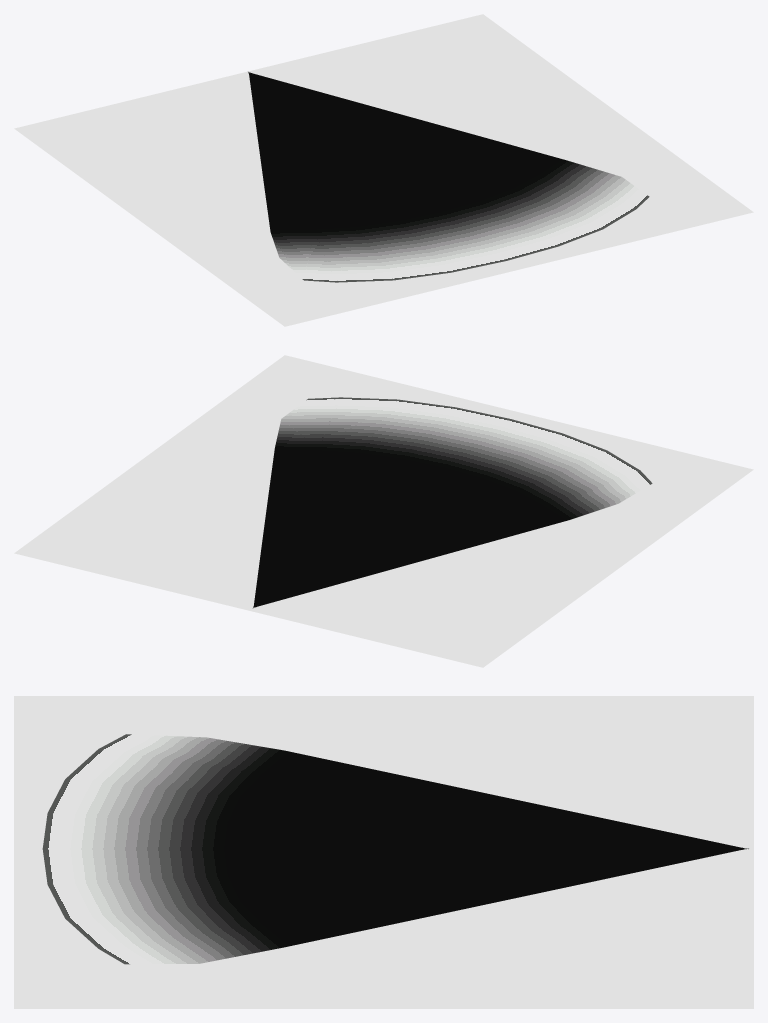
Rendered from skilltips_60du.FBX.
The picture shows the model from 3 angles, top to bottom: view 1: azimuth 30°, elevation 25°; view 2: azimuth 150°, elevation 25°; view 3: azimuth 270°, elevation 25°; orthographic projection. The views are drawn at different scales.
Parts seen in each view (by area): view 1: 1_1, 2_1; view 2: 1_1, 2_1; view 3: 1_1, 2_1.
Boxes of the visible parts, bbox=[...] form: 1_1: bbox=[14, 14, 753, 326]; 2_1: bbox=[248, 71, 649, 282]; 1_1: bbox=[14, 355, 753, 667]; 2_1: bbox=[252, 397, 652, 608]; 1_1: bbox=[14, 696, 753, 1008]; 2_1: bbox=[42, 734, 748, 964].
Bounding box in the file's own units: 1 × 0.00312 × 1.
2 materials, 2 textured.
